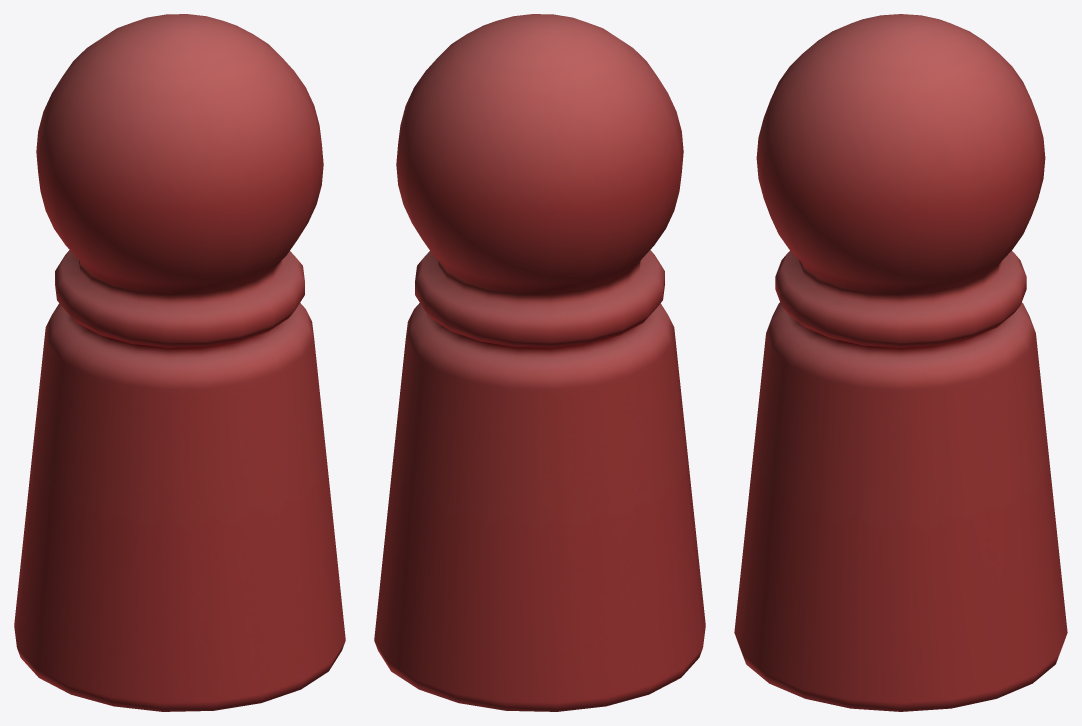
File: YutNori_PieceRed.fbx
The picture shows the model from 3 angles, left to right: view 1: azimuth 30°, elevation 25°; view 2: azimuth 150°, elevation 25°; view 3: azimuth 270°, elevation 25°; orthographic projection.
Visible parts, largest first — view 1: YutNori_PieceRed; view 2: YutNori_PieceRed; view 3: YutNori_PieceRed.
Boxes of the visible parts, bbox=[...] form: YutNori_PieceRed: bbox=[14, 14, 345, 711]; YutNori_PieceRed: bbox=[374, 14, 705, 711]; YutNori_PieceRed: bbox=[734, 14, 1067, 711].
Size of the model in its own units: 2.55 by 5.23 by 2.55.
